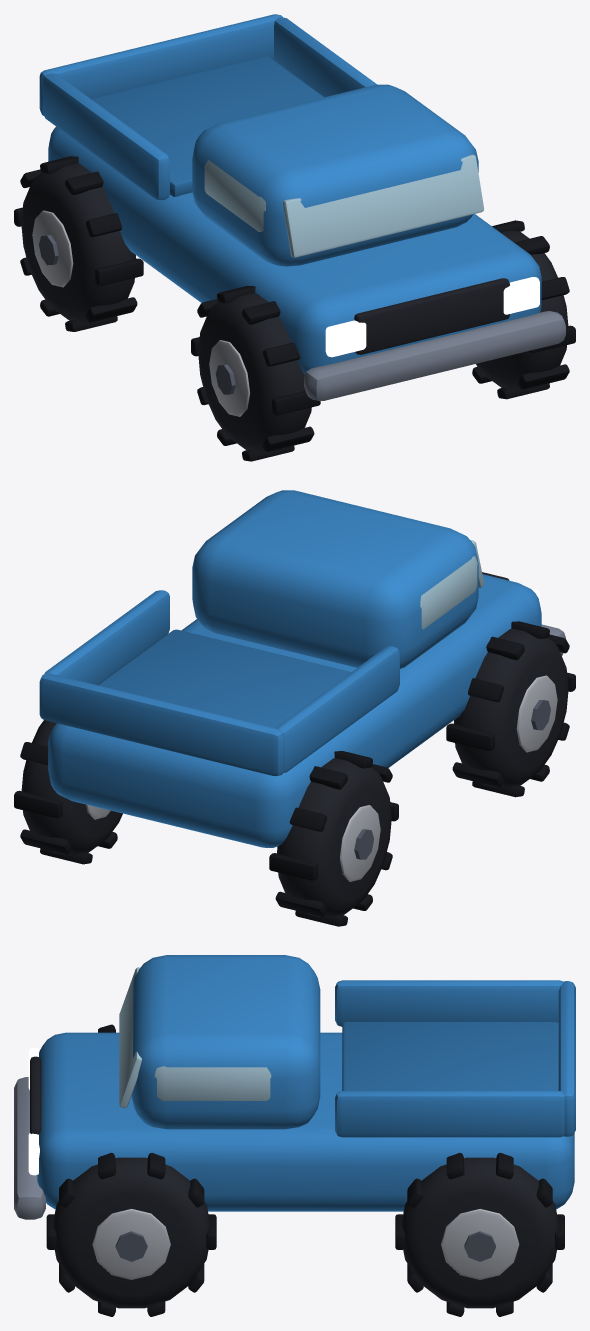
Rendered from v_pickup.glb.
The picture shows the model from 3 angles, top to bottom: view 1: azimuth 30°, elevation 25°; view 2: azimuth 150°, elevation 25°; view 3: azimuth 270°, elevation 25°; orthographic projection.
Parts seen in each view (by area): view 1: body, wheel_bl, wheel_fl, wheel_fr, lamp_glow; view 2: body, wheel_bl, wheel_fl, wheel_br; view 3: body, wheel_fr, wheel_br, lamp_glow.
Part boxes in pixels (bbox=[...]): body: bbox=[39, 14, 565, 400]; wheel_bl: bbox=[14, 156, 143, 331]; wheel_fl: bbox=[191, 285, 320, 461]; wheel_fr: bbox=[472, 220, 575, 399]; lamp_glow: bbox=[325, 277, 539, 357]; body: bbox=[39, 490, 565, 847]; wheel_bl: bbox=[269, 751, 398, 926]; wheel_fl: bbox=[446, 621, 575, 797]; wheel_br: bbox=[14, 720, 122, 864]; body: bbox=[14, 955, 575, 1219]; wheel_fr: bbox=[46, 1153, 216, 1316]; wheel_br: bbox=[395, 1152, 564, 1316]; lamp_glow: bbox=[28, 1047, 39, 1175].
Size of the model in its own units: 2.5 by 1.9 by 3.87.
